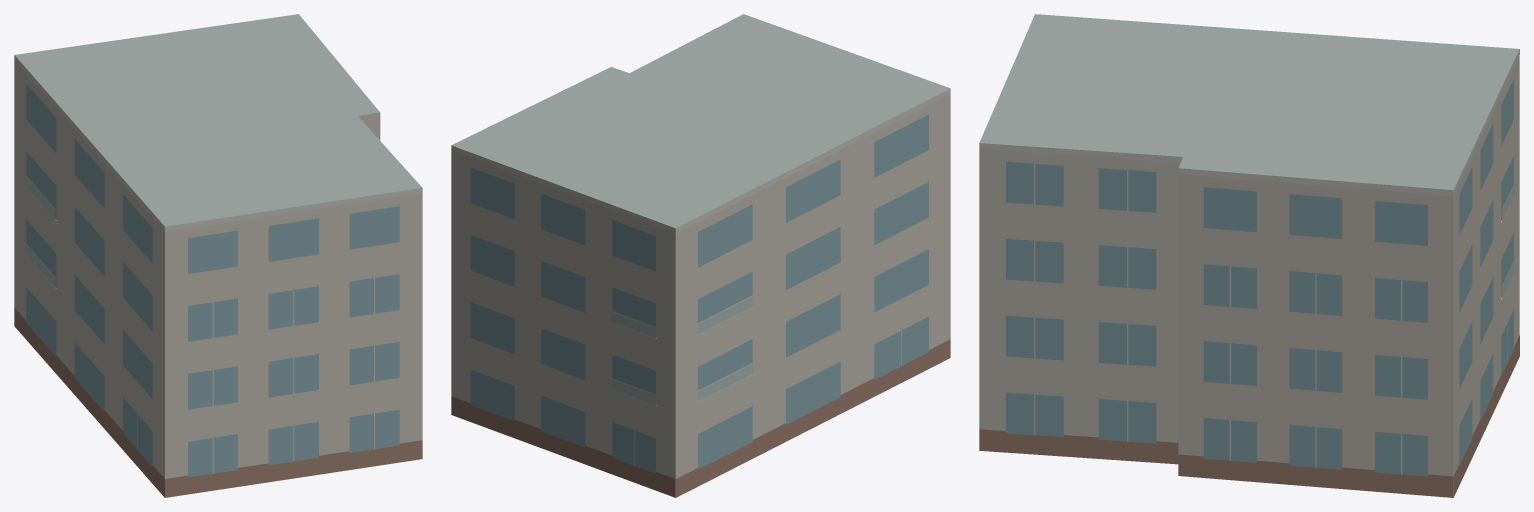
The model's file is survey-upis-32826496.glb.
The picture shows the model from 3 angles, left to right: view 1: azimuth 30°, elevation 25°; view 2: azimuth 150°, elevation 25°; view 3: azimuth 270°, elevation 25°; orthographic projection. The views are drawn at different scales.
Visible parts, largest first — view 1: survey-upis-32826496.tmp; view 2: survey-upis-32826496.tmp; view 3: survey-upis-32826496.tmp.
Boxes of the visible parts, left/top/right/bottom form: survey-upis-32826496.tmp: left=14, top=14, right=422, bottom=497; survey-upis-32826496.tmp: left=451, top=14, right=950, bottom=497; survey-upis-32826496.tmp: left=979, top=14, right=1519, bottom=497.
Size of the model in its own units: 15.73 by 12.8 by 20.38.
